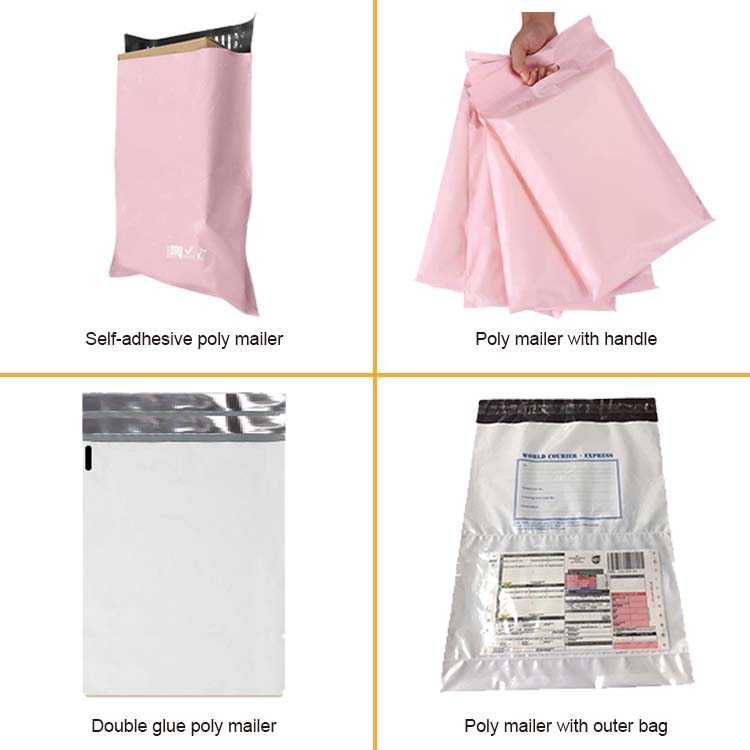good-parcel: (418, 24, 710, 314), (441, 399, 693, 690), (82, 391, 287, 698), (109, 19, 258, 315)
